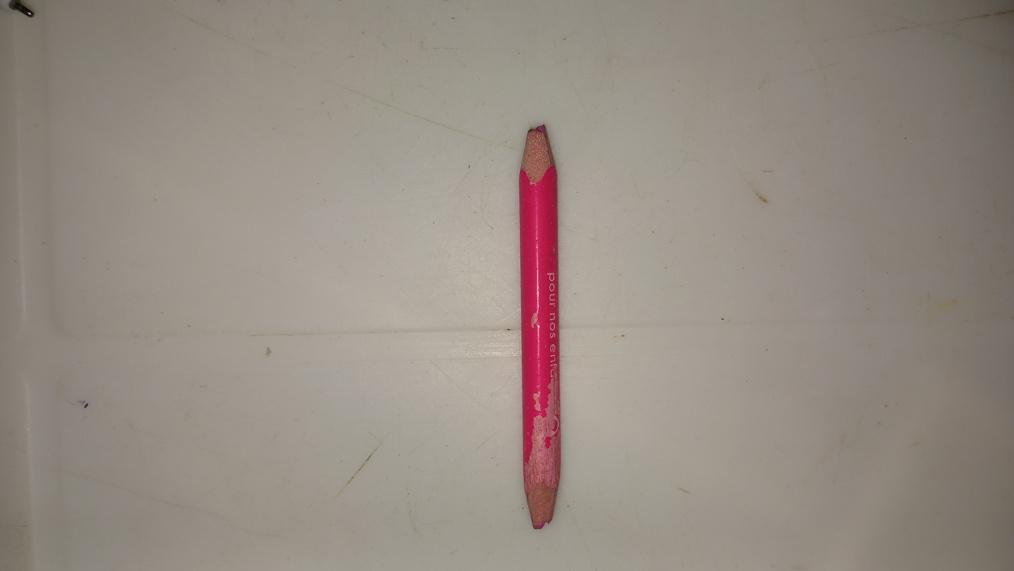Pencil: (520, 117, 558, 532)
